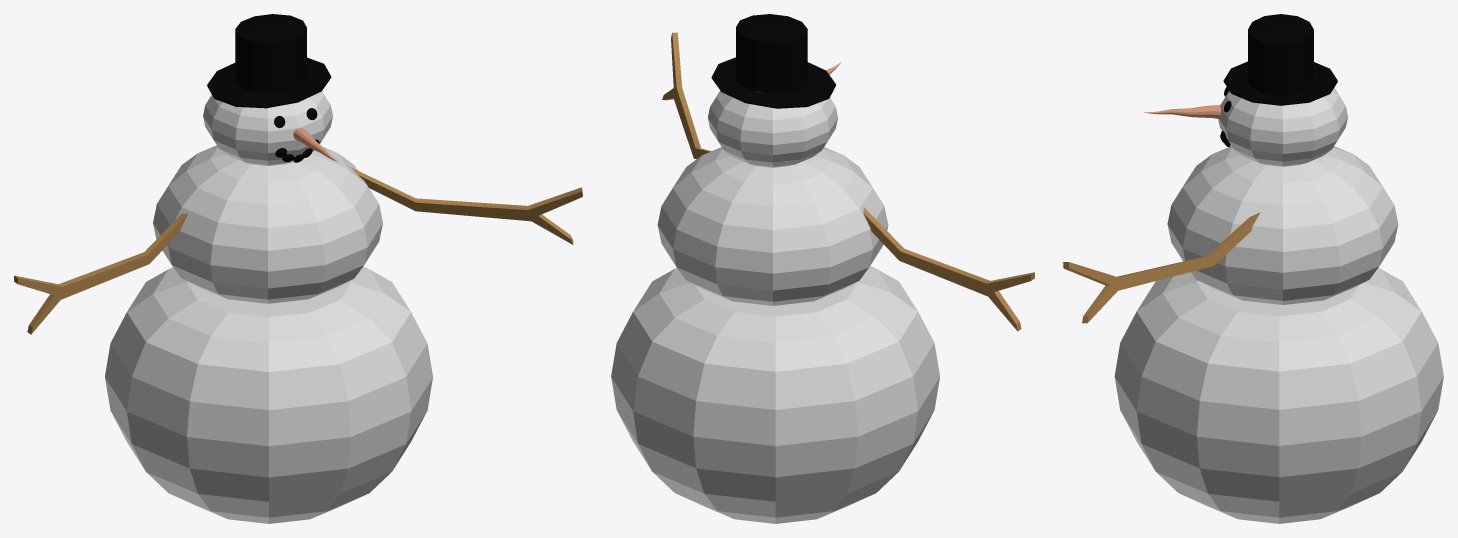
Rendered from bonhommeNeige.fbx.
3 renders of one model, left to right at view 1: azimuth 30°, elevation 25°; view 2: azimuth 150°, elevation 25°; view 3: azimuth 270°, elevation 25°, orthographic.
Parts seen in each view (by area): view 1: pSphere11; view 2: pSphere11; view 3: pSphere11.
Part boxes in pixels (bbox=[...]): pSphere11: bbox=[14, 14, 582, 523]; pSphere11: bbox=[611, 14, 1034, 523]; pSphere11: bbox=[1063, 14, 1443, 523].
Size of the model in its own units: 52.2 by 50.86 by 36.98.
